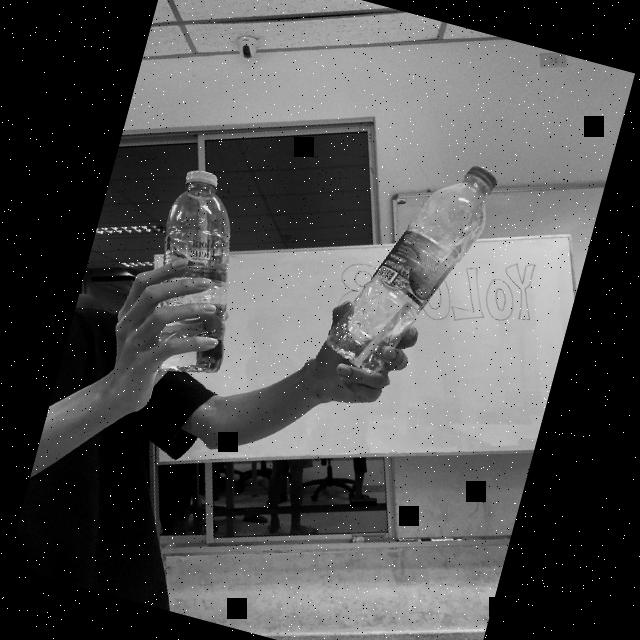plastic_bottle: (320, 137, 498, 393), (127, 162, 269, 384)
plastic_bottle_cap: (180, 165, 220, 200), (462, 160, 498, 192)
straw: (348, 172, 491, 390)
